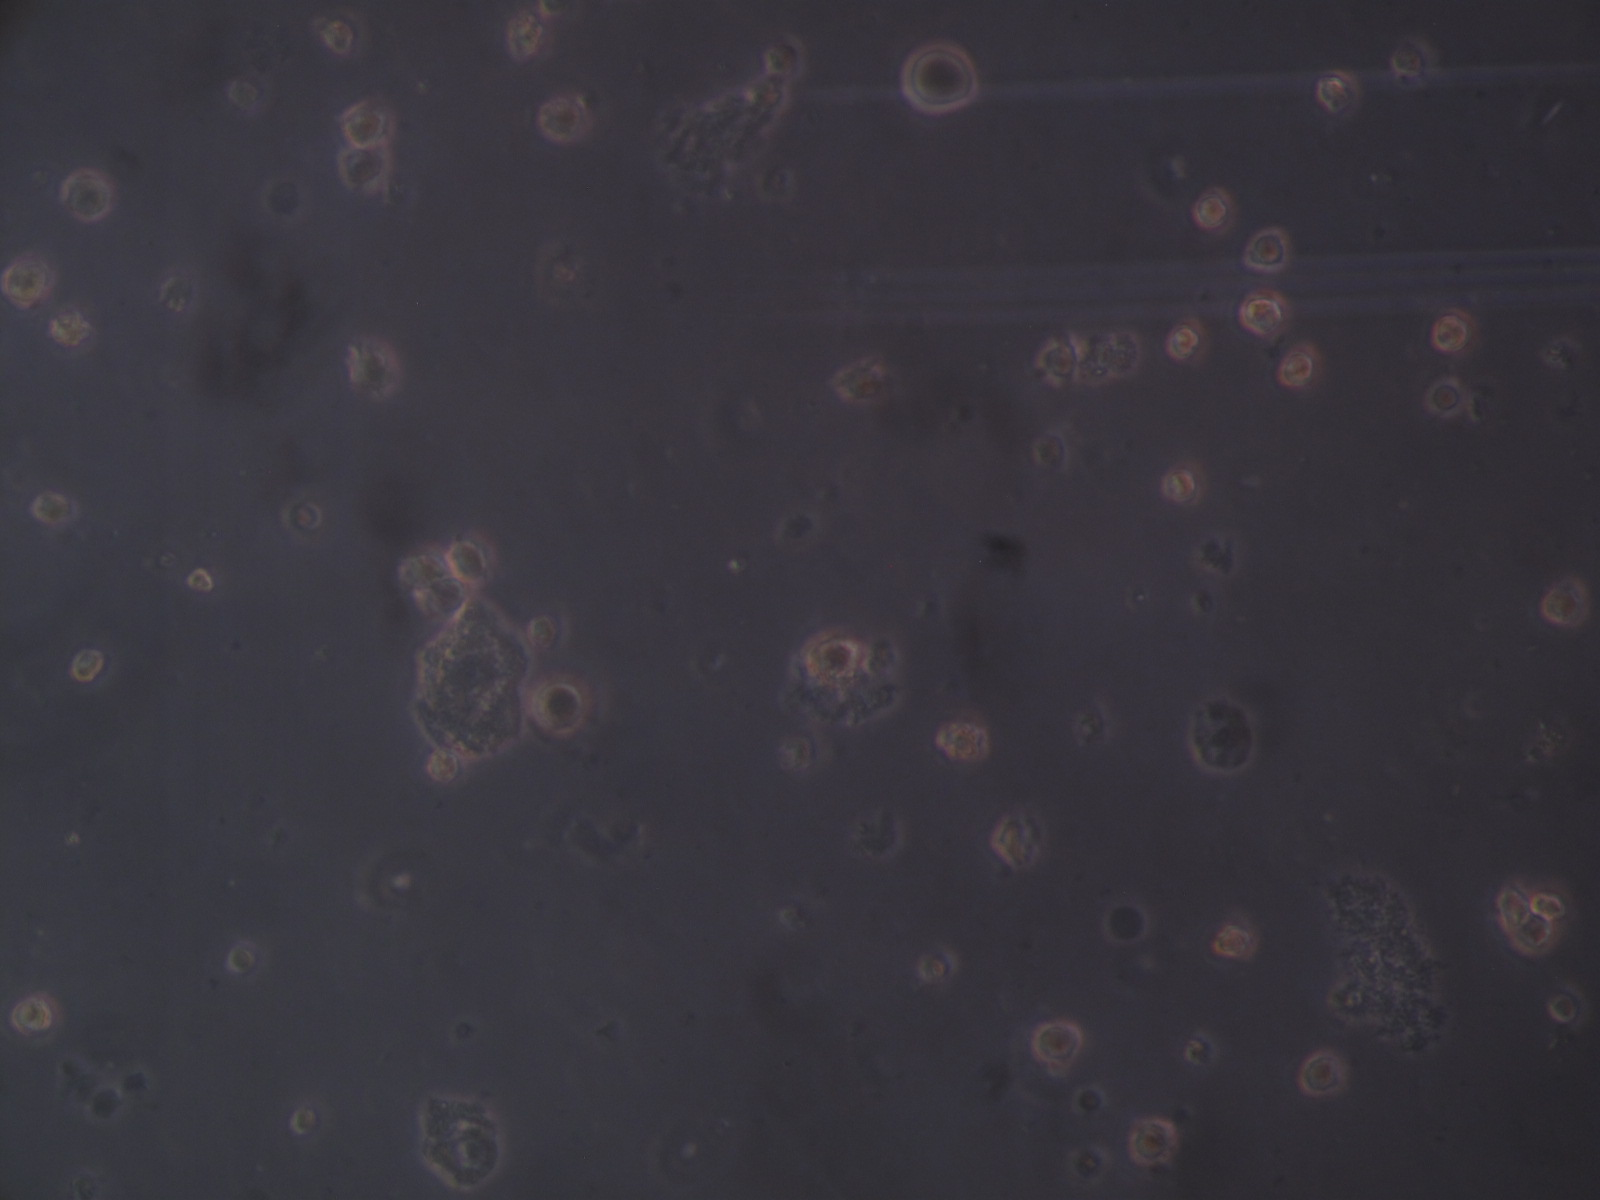hemo: (901, 42, 978, 115), (804, 628, 866, 686), (527, 679, 587, 735), (346, 337, 399, 395), (994, 811, 1043, 872), (443, 534, 496, 585), (340, 100, 396, 147), (1, 256, 52, 308), (1237, 287, 1289, 337), (338, 147, 392, 194), (60, 171, 111, 221), (1031, 1020, 1083, 1066), (1130, 1114, 1177, 1167), (538, 96, 591, 142), (1542, 579, 1590, 629), (935, 721, 990, 763), (48, 308, 96, 354), (13, 991, 60, 1036), (1296, 1051, 1346, 1095), (1164, 316, 1208, 366), (505, 9, 548, 59), (311, 14, 357, 61), (1243, 227, 1290, 271), (280, 494, 321, 543), (1315, 69, 1361, 113), (1529, 887, 1580, 926), (1211, 919, 1256, 962), (1431, 310, 1477, 353), (1036, 337, 1081, 379), (1547, 983, 1589, 1029), (1276, 344, 1322, 384), (1194, 187, 1236, 229), (1513, 913, 1552, 958), (1163, 463, 1202, 508), (1495, 879, 1529, 930), (1393, 38, 1439, 76), (34, 489, 81, 526), (227, 938, 267, 979), (527, 613, 569, 652), (401, 553, 443, 590), (73, 648, 116, 684), (425, 579, 467, 613), (428, 751, 471, 785), (1427, 376, 1463, 416), (921, 950, 957, 983), (290, 1107, 326, 1134)
